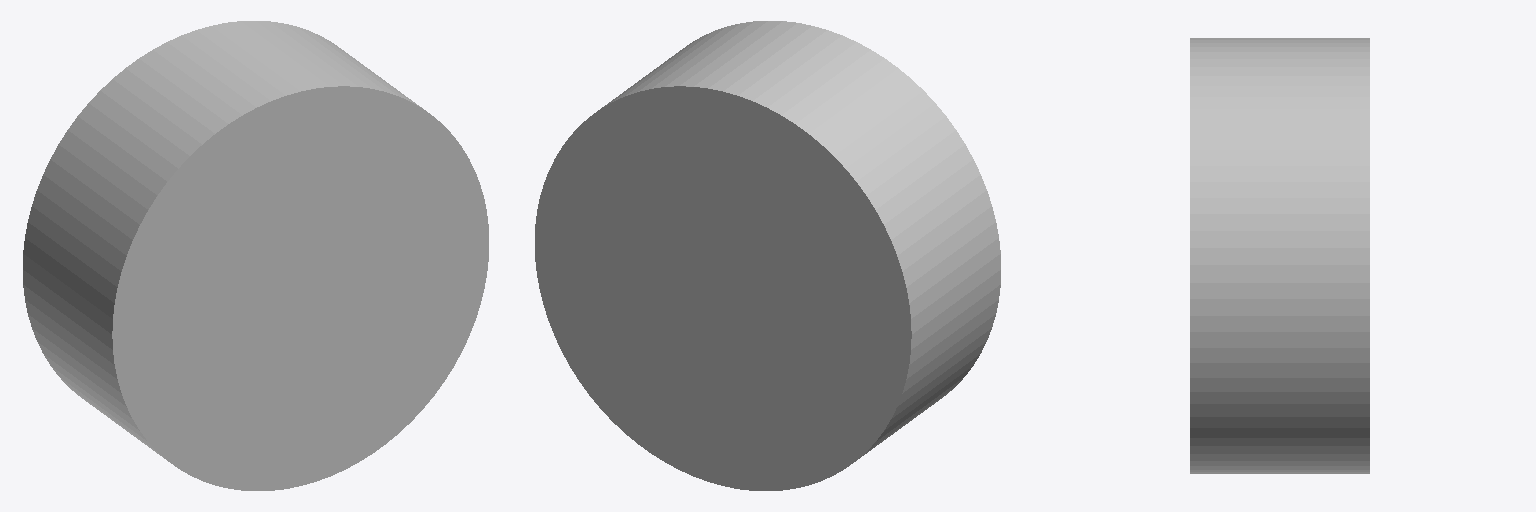
Rendered from pruebas.obj.
3 views of the same model, side by side, from view 1: azimuth 30°, elevation 25°; view 2: azimuth 150°, elevation 25°; view 3: azimuth 270°, elevation 25° (orthographic).
Parts seen in each view (by area): view 1: Object.1; view 2: Object.1; view 3: Object.1.
Part boxes in pixels (bbox=[...]): Object.1: bbox=[23, 21, 488, 490]; Object.1: bbox=[535, 21, 1000, 490]; Object.1: bbox=[1190, 38, 1369, 473].
Bounding box in the file's own units: 0.512 × 0.512 × 0.2112.